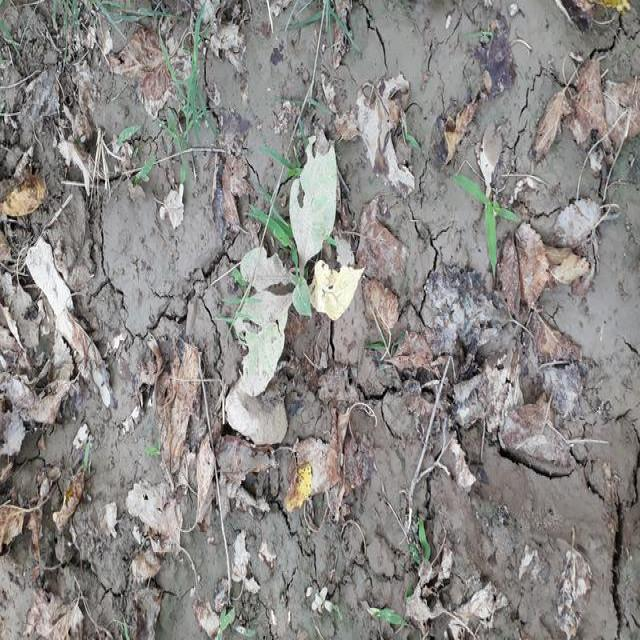crop: (242, 130, 366, 398)
